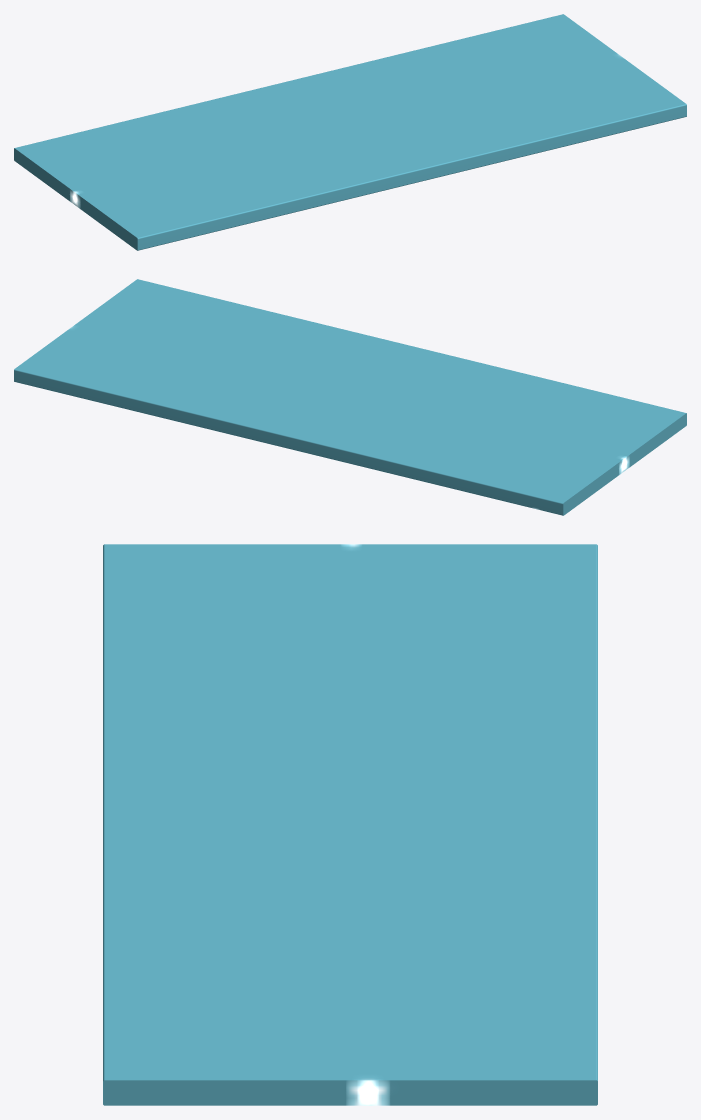
File: shelfRack.glb
3 views of the same model, one above another, from view 1: azimuth 30°, elevation 25°; view 2: azimuth 150°, elevation 25°; view 3: azimuth 270°, elevation 25° (orthographic). The views are drawn at different scales.
Parts seen in each view (by area): view 1: shelf5; view 2: shelf5; view 3: shelf5.
Boxes of the visible parts, <box> form: shelf5: <box>14,14,686,250</box>; shelf5: <box>14,279,686,515</box>; shelf5: <box>103,544,597,1105</box>.
Size of the model in its own units: 7.88 by 0.1756 by 3.08.
1 material, 1 textured.
